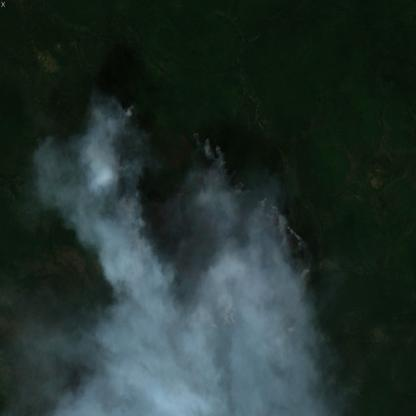fire: (94, 102, 313, 334)
